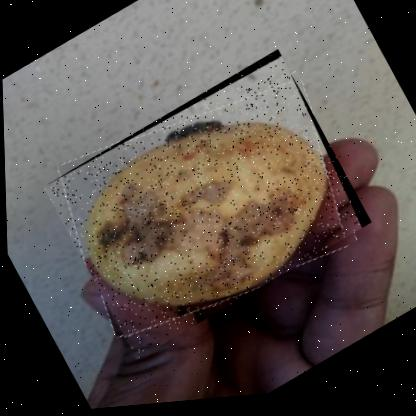guava_rotten: (38, 48, 373, 368)
